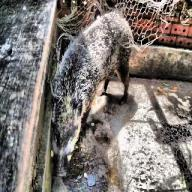boar: (50, 8, 134, 178)
